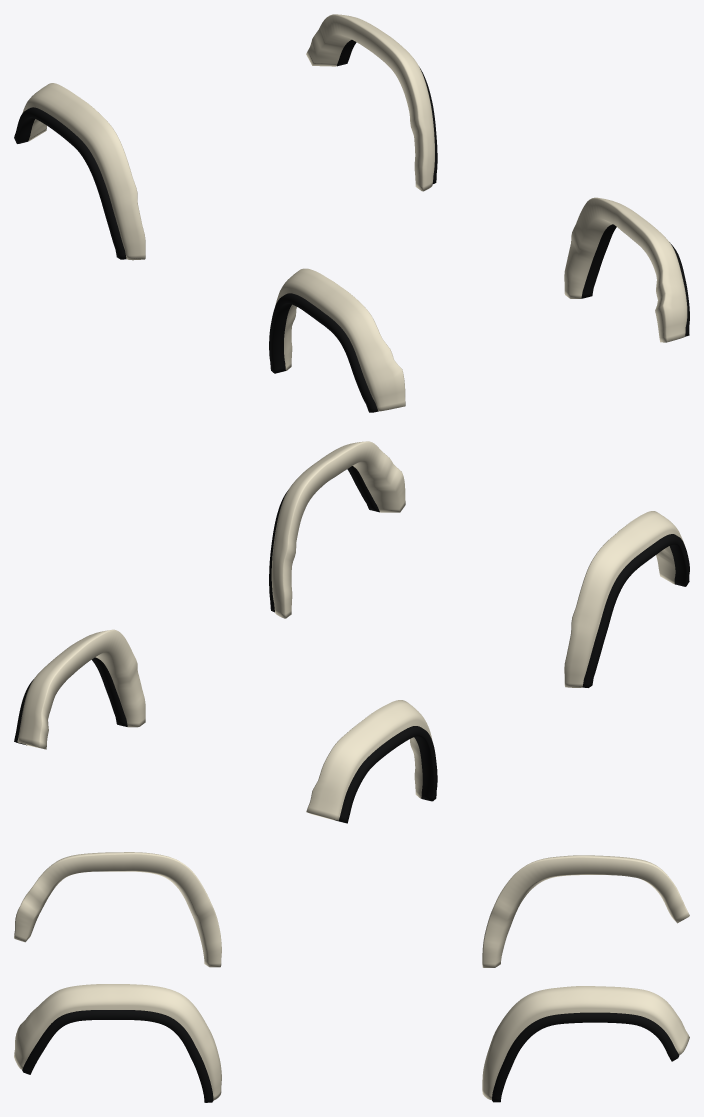
The model's file is fender_aero_over.glb.
3 views of the same model, one above another, from view 1: azimuth 30°, elevation 25°; view 2: azimuth 150°, elevation 25°; view 3: azimuth 270°, elevation 25° (orthographic). The views are drawn at different scales.
Visible parts, largest first — view 1: front1.003, rear-1.003, front-1.003, rear1.003, lipfront-1, liprear-1, lipfront1; view 2: front1.003, front-1.003, rear1.003, rear-1.003, lipfront-1, liprear-1, liprear1, lipfront1; view 3: front1.003, rear1.003, front-1.003, rear-1.003, lipfront1, liprear1.
Boxes of the visible parts, bbox=[...] form: front1.003: bbox=[564, 197, 687, 342]; rear-1.003: bbox=[22, 83, 145, 260]; front-1.003: bbox=[275, 268, 405, 411]; rear1.003: bbox=[306, 14, 434, 191]; lipfront-1: bbox=[269, 293, 378, 412]; liprear-1: bbox=[14, 107, 126, 259]; lipfront1: bbox=[581, 224, 689, 336]; front1.003: bbox=[271, 441, 405, 618]; front-1.003: bbox=[564, 511, 684, 687]; rear1.003: bbox=[17, 629, 145, 749]; rear-1.003: bbox=[306, 700, 432, 820]; lipfront-1: bbox=[582, 534, 689, 687]; liprear-1: bbox=[334, 726, 437, 823]; liprear1: bbox=[14, 657, 127, 745]; lipfront1: bbox=[269, 466, 379, 612]; front1.003: bbox=[14, 984, 221, 1100]; rear1.003: bbox=[482, 986, 689, 1099]; front-1.003: bbox=[14, 852, 221, 967]; rear-1.003: bbox=[482, 855, 689, 967]; lipfront1: bbox=[22, 1010, 213, 1102]; liprear1: bbox=[492, 1012, 679, 1102].
Size of the model in its own units: 1.66 by 0.5628 by 3.08.
